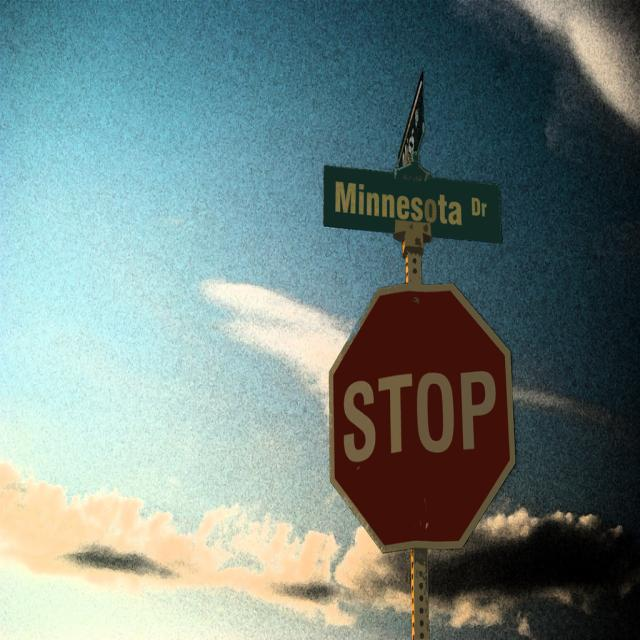Stop-sign: (330, 283, 516, 546)
